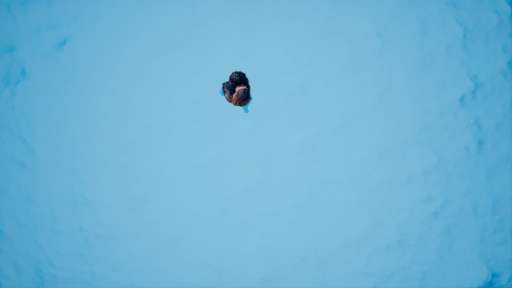person: (217, 69, 260, 119)
